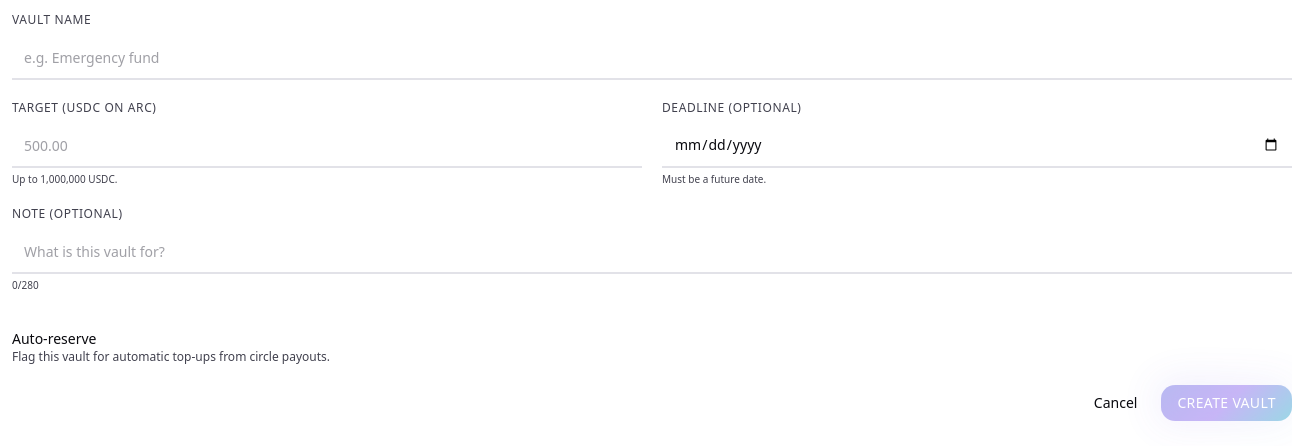
GoalForm — inline validation › rejects past deadlines
Type "2020-01-01" into the date field labelled "Deadline (optional)" at (977, 146), box [662,124,1292,168]
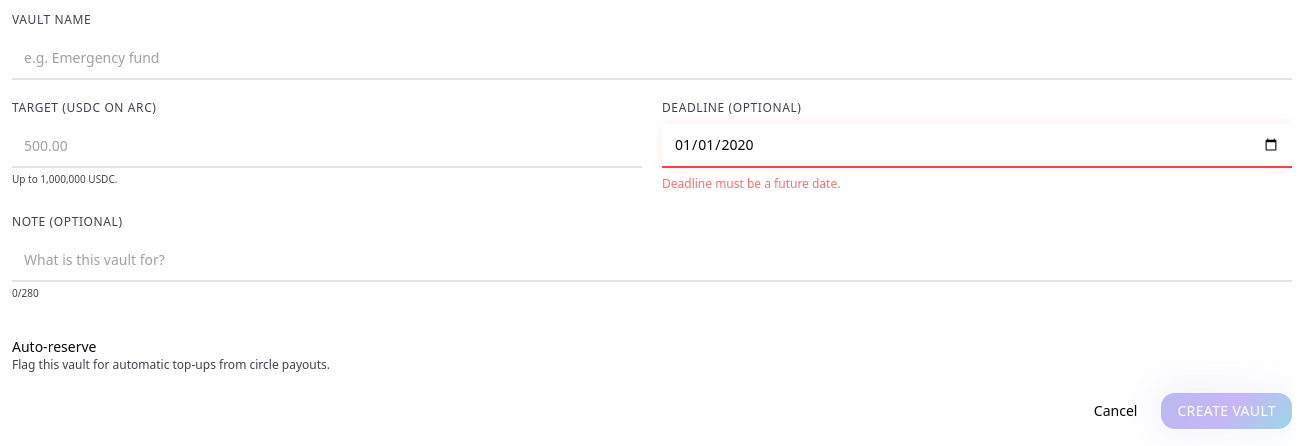
Expected: the text "Deadline must be a future date." is shown, [662,175,840,192]
